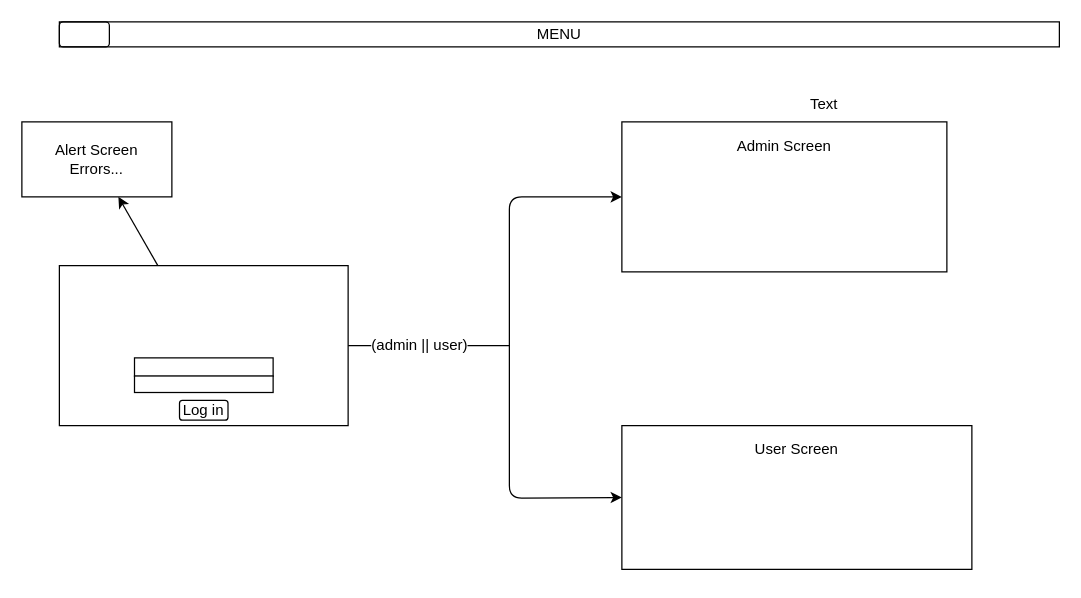
Some shapes in this 1081 by 598 pixel diagram are drawn without their labels. Here are the shapes that lost their labels. From the top down, the box of each, then its label:
(58, 21, 109, 47): About
(58, 264, 348, 426): LogIn Screen
